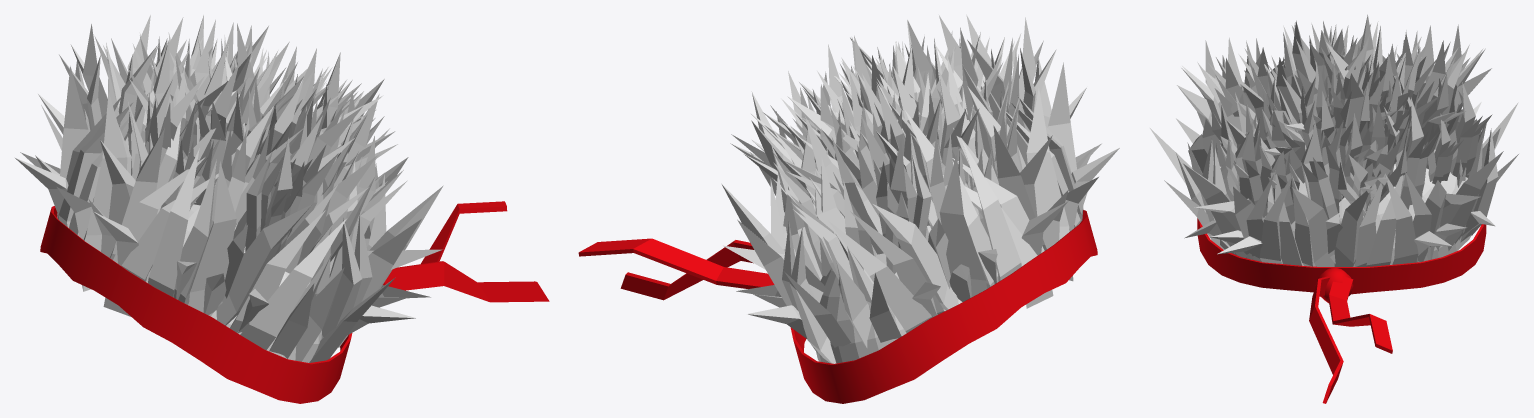
Rendered from Ryu.fbx.
3 views of the same model, side by side, from view 1: azimuth 30°, elevation 25°; view 2: azimuth 150°, elevation 25°; view 3: azimuth 270°, elevation 25° (orthographic). The views are drawn at different scales.
Visible parts, largest first — view 1: Cylinder.011, Cylinder.036, Circle, Cylinder.037, Cylinder.012, Cylinder.010, Plane.004, Cylinder.038, Cylinder.035, Cylinder.041, Cylinder.040, Cylinder.009 (+23 smaller); view 2: Cylinder.010, Circle, Cylinder.038, Cylinder.036, Cylinder.012, Cylinder.037, Cylinder.018, Cylinder.011, Plane.005, Cylinder.035, Anti calvace, Cylinder (+19 smaller); view 3: Cylinder.012, Cylinder.037, Cylinder.038, Cylinder.036, Circle, Anti calvace, Cylinder.011, Plane.005, Plane.004, Cylinder.034, Cylinder.035, Cylinder.039 (+15 smaller).
Boxes of the visible parts, x1,y1,x2,y2 form: Cylinder.011: (148,148,346,350); Cylinder.036: (145,63,383,256); Circle: (40,206,352,403); Cylinder.037: (220,23,407,282); Cylinder.012: (321,157,443,347); Cylinder.010: (15,60,133,227); Plane.004: (383,261,549,302); Cylinder.038: (155,15,326,147); Cylinder.035: (59,24,120,130); Cylinder.041: (308,155,377,282); Cylinder.040: (284,153,338,273); Cylinder.009: (86,91,127,251); Cylinder.010: (828,141,1021,332); Circle: (790,210,1097,403); Cylinder.038: (744,46,940,311); Cylinder.036: (850,14,1056,188); Cylinder.012: (721,152,836,363); Cylinder.037: (730,35,919,168); Cylinder.018: (784,241,901,348); Cylinder.011: (1011,58,1119,221); Plane.005: (578,238,774,288); Cylinder.035: (876,138,931,273); Anti calvace: (816,225,962,363); Cylinder: (1026,87,1069,239); Cylinder.012: (1183,128,1503,266); Cylinder.037: (1233,41,1378,224); Cylinder.038: (1323,41,1492,209); Cylinder.036: (1181,20,1344,151); Circle: (1197,218,1486,294); Anti calvace: (1220,149,1471,266); Cylinder.011: (1176,37,1284,173); Plane.005: (1328,276,1392,353); Plane.004: (1309,276,1343,403); Cylinder.034: (1411,40,1464,102); Cylinder.035: (1435,24,1485,149); Cylinder.039: (1238,73,1275,165).
Size of the model in its own units: 395 by 265 by 343.
